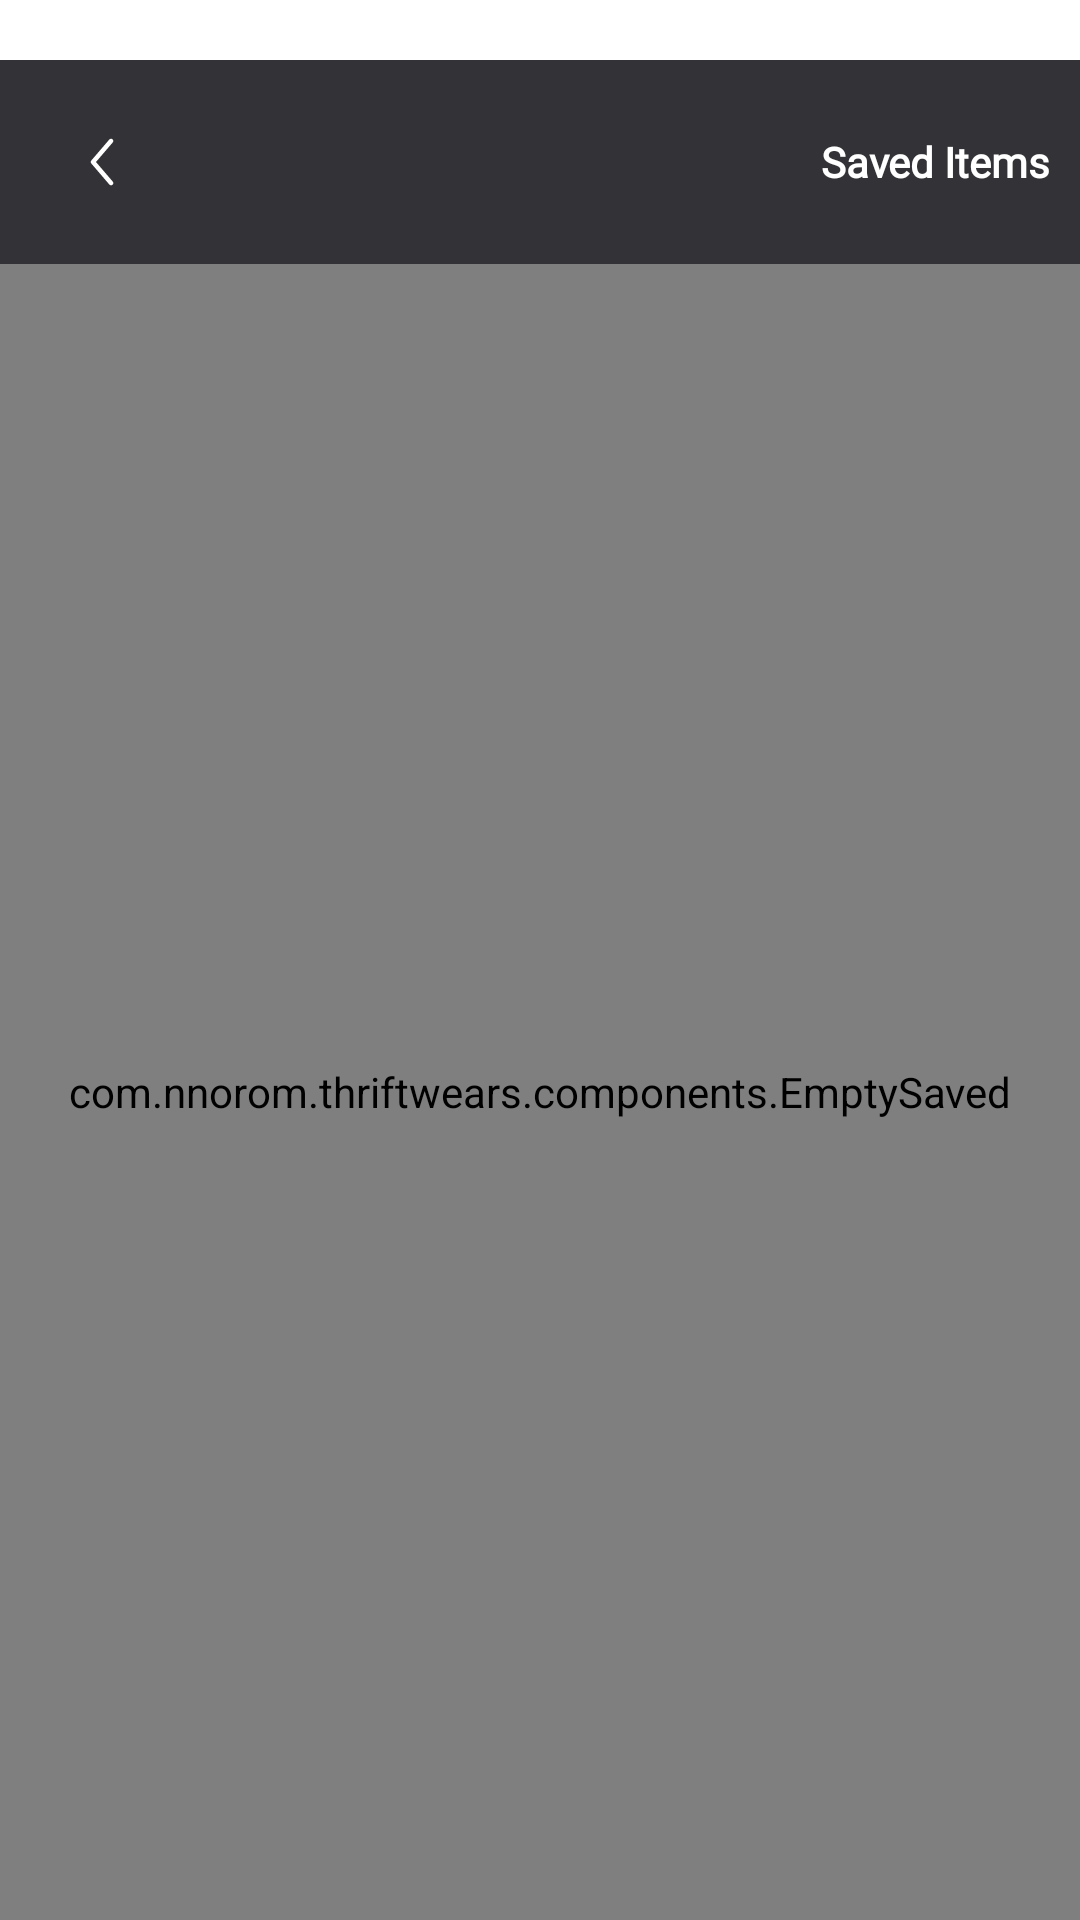

Named icons in this screenshot (1080*1920) and their bounding boxes, (x1, y1, x2, y2):
back: (90, 138, 114, 186)
